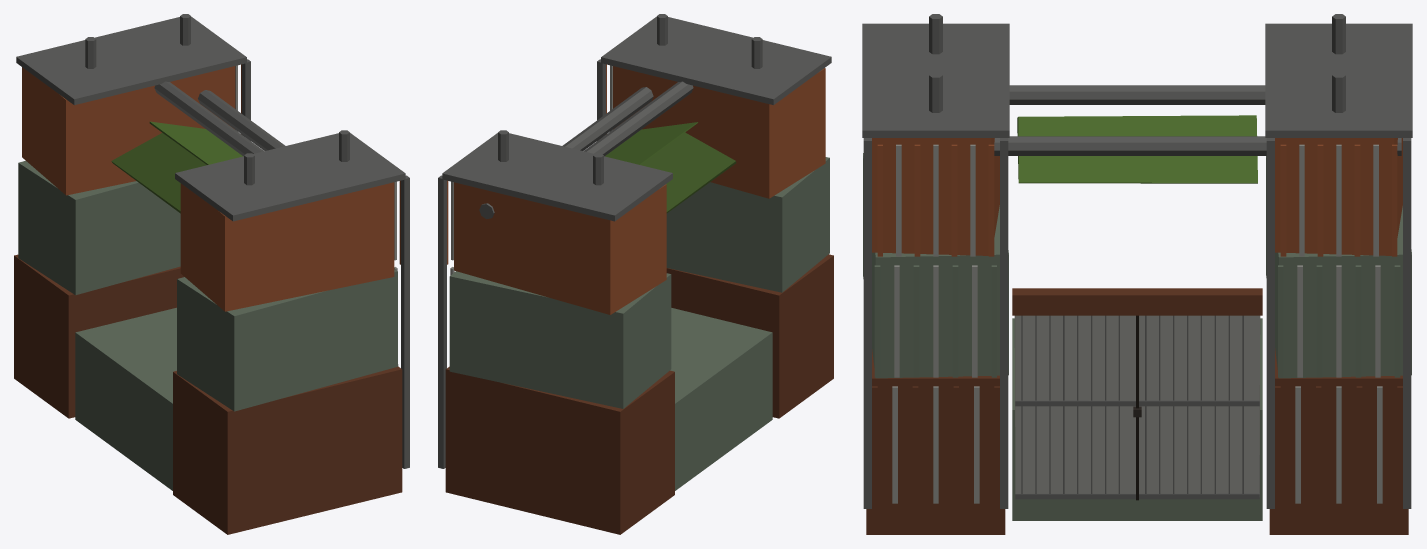
File: fort_cistern_gate.glb
The picture shows the model from 3 angles, left to right: view 1: azimuth 30°, elevation 25°; view 2: azimuth 150°, elevation 25°; view 3: azimuth 270°, elevation 25°; orthographic projection. The views are drawn at different scales.
Visible parts, largest first — view 1: fort_cistern_gate; view 2: fort_cistern_gate; view 3: fort_cistern_gate.
Boxes of the visible parts, left/top/right/bottom form: fort_cistern_gate: left=14, top=14, right=409, bottom=534; fort_cistern_gate: left=438, top=14, right=833, bottom=534; fort_cistern_gate: left=862, top=14, right=1412, bottom=534.
Bounding box in the file's own units: 9.55 × 17.5 × 19.8.
